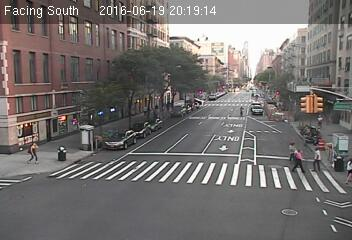neg: (170, 75, 188, 99), (249, 53, 267, 77), (88, 131, 106, 154), (133, 116, 150, 139), (196, 76, 211, 96), (127, 70, 142, 90), (237, 102, 249, 118)
pos: (308, 145, 329, 173), (25, 139, 43, 164), (292, 149, 310, 172), (316, 114, 328, 130)
